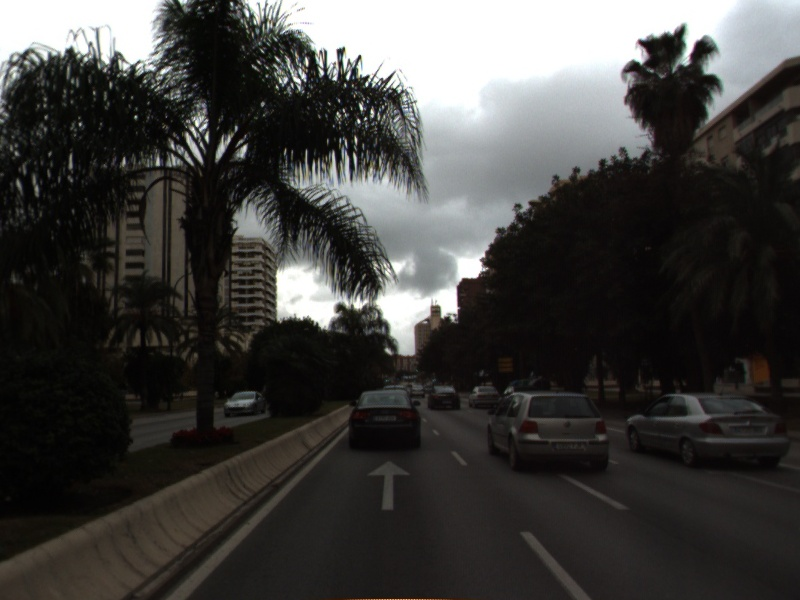STRAIGHT: (364, 458, 415, 513)
